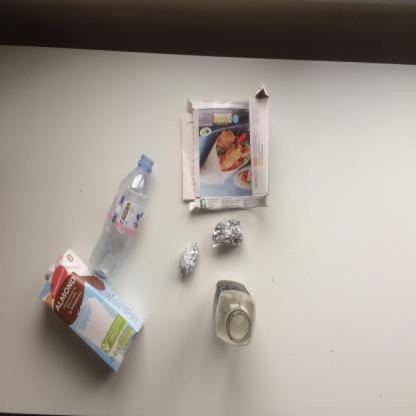Aluminium foil: (212, 218, 244, 247), (179, 242, 199, 280)
Bottle cap: (87, 154, 154, 284), (213, 280, 256, 346)
Carton: (39, 248, 144, 373), (181, 82, 269, 211)
